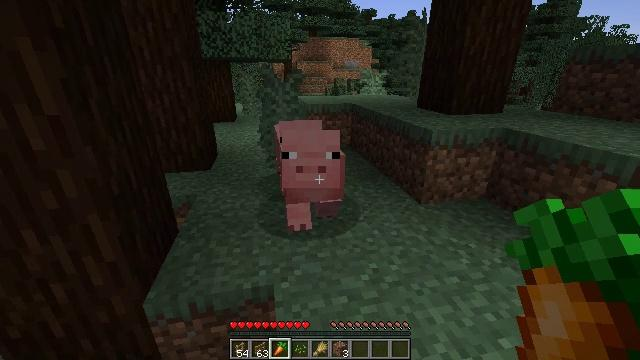pig: (283, 130, 344, 231)
